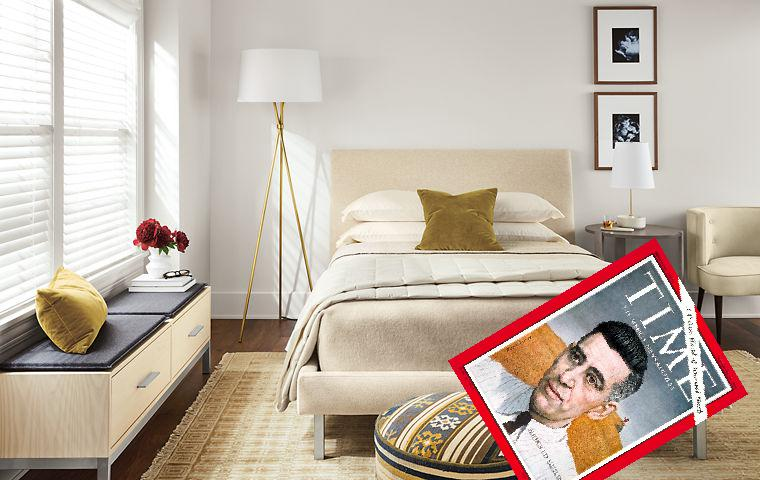times: (447, 238, 752, 480)
